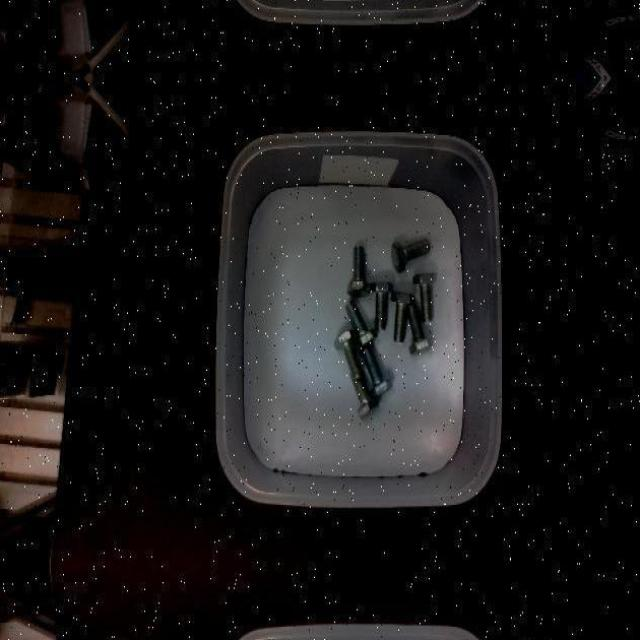screw: (344, 300, 377, 350), (362, 346, 392, 399), (334, 329, 363, 381), (407, 302, 433, 356), (390, 238, 431, 272), (346, 246, 371, 299), (412, 271, 437, 322), (391, 292, 415, 342), (370, 282, 392, 328)
